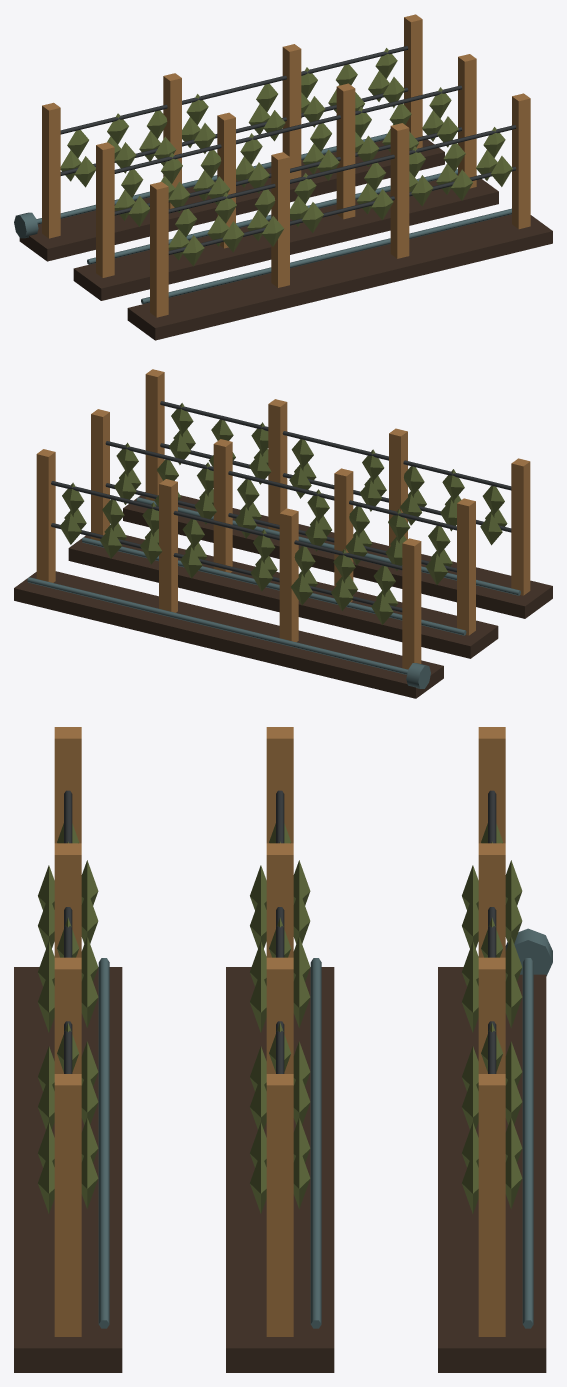
Rendered from Vineyard.glb.
3 views of the same model, one above another, from view 1: azimuth 30°, elevation 25°; view 2: azimuth 150°, elevation 25°; view 3: azimuth 270°, elevation 25° (orthographic). The views are drawn at different scales.
Parts seen in each view (by area): view 1: hand-pump-static-vineyard-cultivated-soil-mat, hand-pump-static-vineyard-honey-timber-mat, hand-pump-static-vineyard-muted-vine-mat, hand-pump-static-vineyard-charcoal-wire-mat, hand-pump-static-vineyard-irrigation-mat; view 2: hand-pump-static-vineyard-cultivated-soil-mat, hand-pump-static-vineyard-honey-timber-mat, hand-pump-static-vineyard-muted-vine-mat, hand-pump-static-vineyard-charcoal-wire-mat, hand-pump-static-vineyard-irrigation-mat; view 3: hand-pump-static-vineyard-cultivated-soil-mat, hand-pump-static-vineyard-honey-timber-mat, hand-pump-static-vineyard-muted-vine-mat, hand-pump-static-vineyard-irrigation-mat, hand-pump-static-vineyard-charcoal-wire-mat.
Part boxes in pixels (x1,y1,x2,y2): hand-pump-static-vineyard-cultivated-soil-mat: (19,139,552,340); hand-pump-static-vineyard-honey-timber-mat: (42,14,530,317); hand-pump-static-vineyard-muted-vine-mat: (60,48,512,266); hand-pump-static-vineyard-charcoal-wire-mat: (60,46,516,254); hand-pump-static-vineyard-irrigation-mat: (14,133,511,303); hand-pump-static-vineyard-cultivated-soil-mat: (14,492,552,698); hand-pump-static-vineyard-honey-timber-mat: (36,369,530,669); hand-pump-static-vineyard-muted-vine-mat: (59,403,507,624); hand-pump-static-vineyard-charcoal-wire-mat: (51,401,511,612); hand-pump-static-vineyard-irrigation-mat: (27,497,520,688); hand-pump-static-vineyard-cultivated-soil-mat: (14,967,546,1372); hand-pump-static-vineyard-honey-timber-mat: (54,727,505,1336); hand-pump-static-vineyard-muted-vine-mat: (38,823,522,1213); hand-pump-static-vineyard-irrigation-mat: (98,928,552,1328); hand-pump-static-vineyard-charcoal-wire-mat: (64,790,496,1073).
Size of the model in its own units: 4.04 by 1.35 by 2.39.
